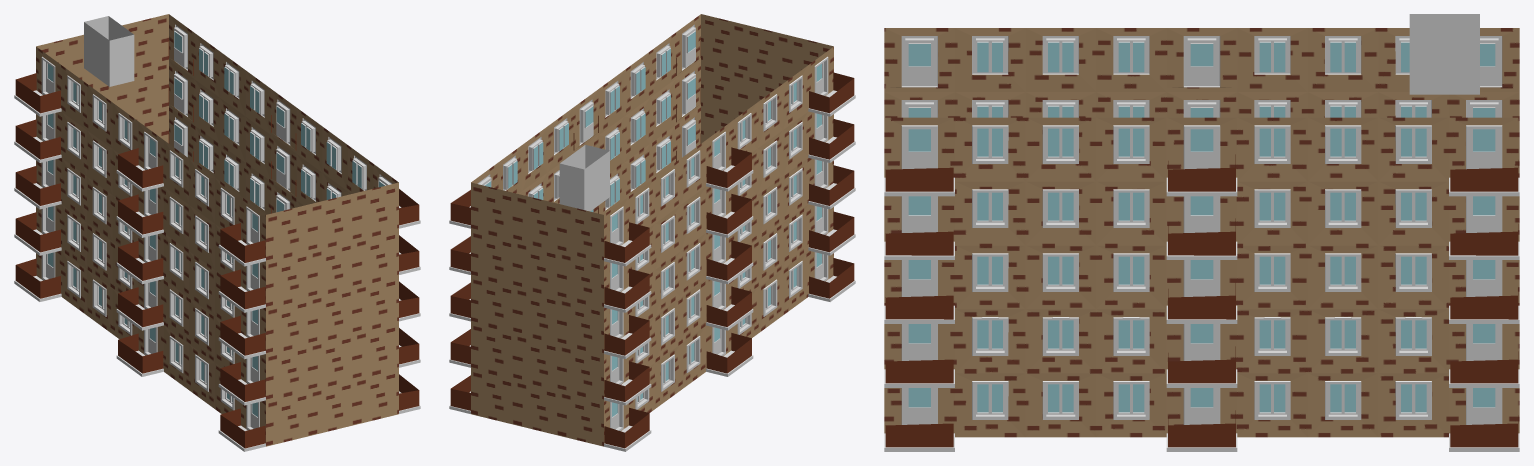
The model's file is Big house.fbx.
The picture shows the model from 3 angles, left to right: view 1: azimuth 30°, elevation 25°; view 2: azimuth 150°, elevation 25°; view 3: azimuth 270°, elevation 25°; orthographic projection. The views are drawn at different scales.
Visible parts, largest first — view 1: Back, Right, Front, Left, Roof; view 2: Back, Left, Front, Right, Roof; view 3: Front, Back, Roof.
Boxes of the visible parts, bbox=[...] form: Back: bbox=[14, 46, 265, 451]; Right: bbox=[266, 182, 398, 446]; Front: bbox=[168, 14, 420, 413]; Left: bbox=[36, 14, 168, 143]; Roof: bbox=[84, 16, 134, 86]; Back: bbox=[604, 46, 855, 451]; Left: bbox=[471, 182, 603, 446]; Front: bbox=[449, 14, 700, 413]; Right: bbox=[701, 14, 833, 143]; Roof: bbox=[559, 145, 609, 211]; Front: bbox=[884, 117, 1519, 451]; Back: bbox=[884, 28, 1519, 117]; Roof: bbox=[1409, 14, 1479, 94].
Bounding box in the file's own units: 796 × 1115 × 1800.
